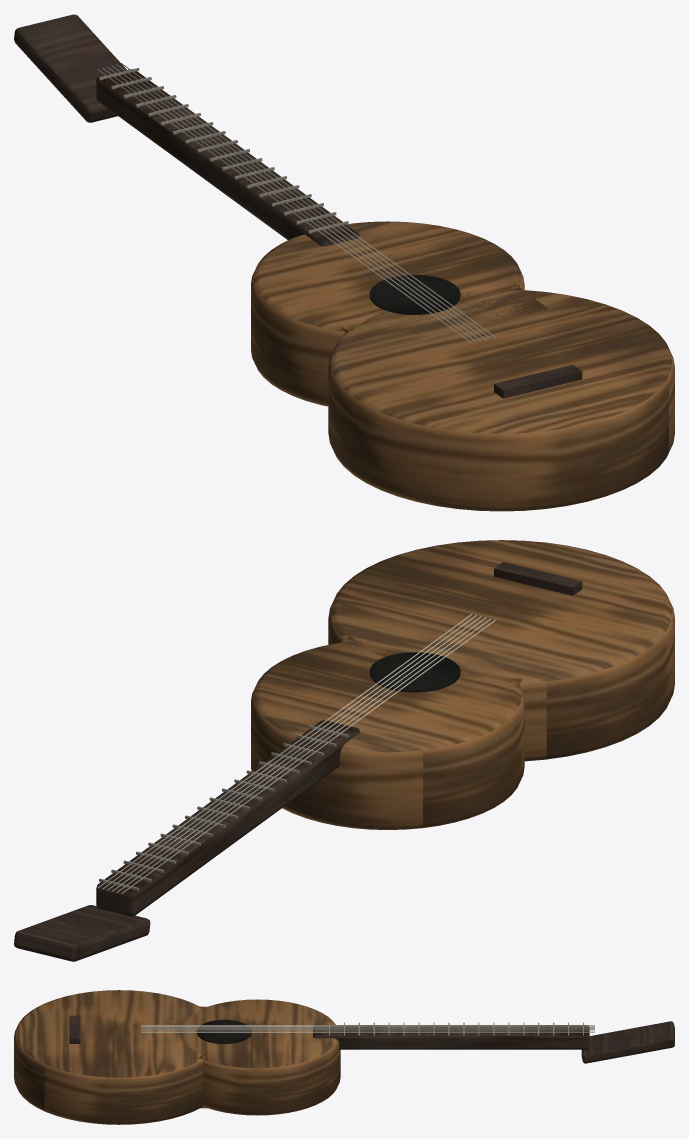
File: MU04_OldGuitar.glb
3 views of the same model, one above another, from view 1: azimuth 30°, elevation 25°; view 2: azimuth 150°, elevation 25°; view 3: azimuth 270°, elevation 25° (orthographic). The views are drawn at different scales.
Parts seen in each view (by area): view 1: MU04_OldGuitar; view 2: MU04_OldGuitar; view 3: MU04_OldGuitar.
Boxes of the visible parts, x1,y1,x2,y2 form: MU04_OldGuitar: (14, 14, 674, 511); MU04_OldGuitar: (14, 540, 674, 961); MU04_OldGuitar: (14, 990, 674, 1124).
Bounding box in the file's own units: 0.3182 × 0.0921 × 1.
4 materials, 4 textured.
